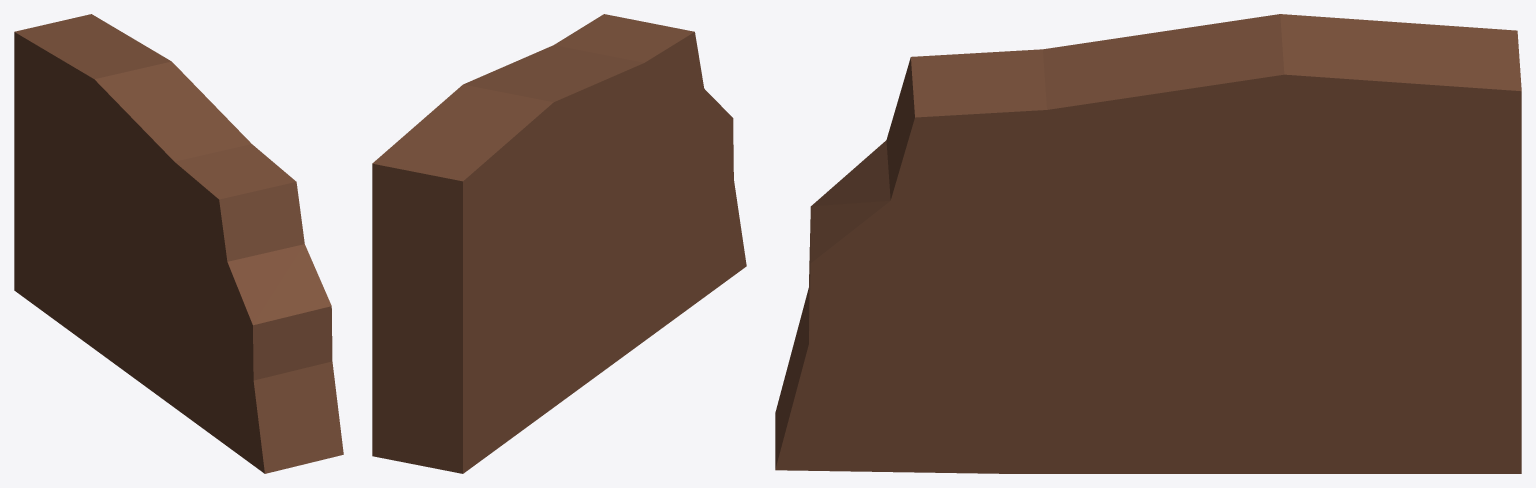
Rendered from DamagedWall000.fbx.
3 views of the same model, side by side, from view 1: azimuth 30°, elevation 25°; view 2: azimuth 150°, elevation 25°; view 3: azimuth 270°, elevation 25° (orthographic). The views are drawn at different scales.
Visible parts, largest first — view 1: Box003; view 2: Box003; view 3: Box003.
Part boxes in pixels (x1,y1,x2,y2): Box003: (14, 14, 343, 473); Box003: (372, 14, 746, 473); Box003: (775, 14, 1521, 473).
Size of the model in its own units: 32.42 by 107 by 180.
